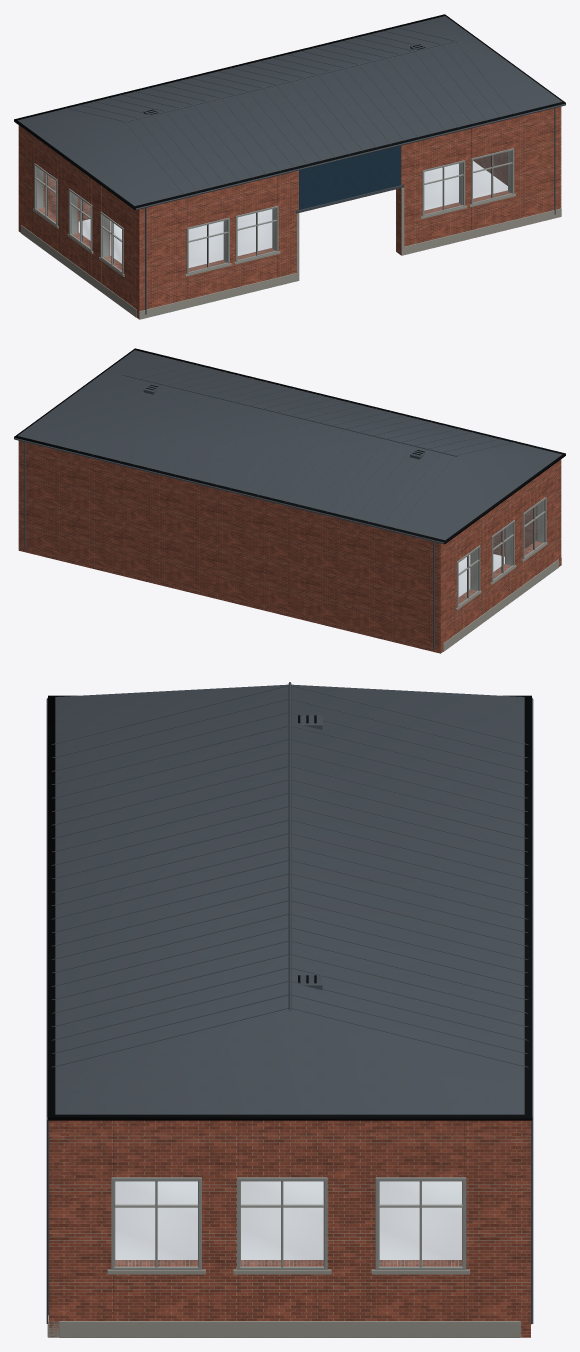
File: bureau_shell.glb
The picture shows the model from 3 angles, top to bottom: view 1: azimuth 30°, elevation 25°; view 2: azimuth 150°, elevation 25°; view 3: azimuth 270°, elevation 25°; orthographic projection. The views are drawn at different scales.
Visible parts, largest first — view 1: BureauFacadeSurface, BureauRoofSurface; view 2: BureauFacadeSurface, BureauRoofSurface; view 3: BureauRoofSurface, BureauFacadeSurface.
Part boxes in pixels (x1,y1,x2,y2): BureauFacadeSurface: (18, 106, 561, 319); BureauRoofSurface: (14, 14, 565, 210); BureauFacadeSurface: (18, 441, 561, 653); BureauRoofSurface: (14, 348, 565, 544); BureauRoofSurface: (46, 682, 533, 1120); BureauFacadeSurface: (46, 1119, 533, 1337).
Bounding box in the file's own units: 19.4 × 6.15 × 9.49.
6 materials, 5 textured.
